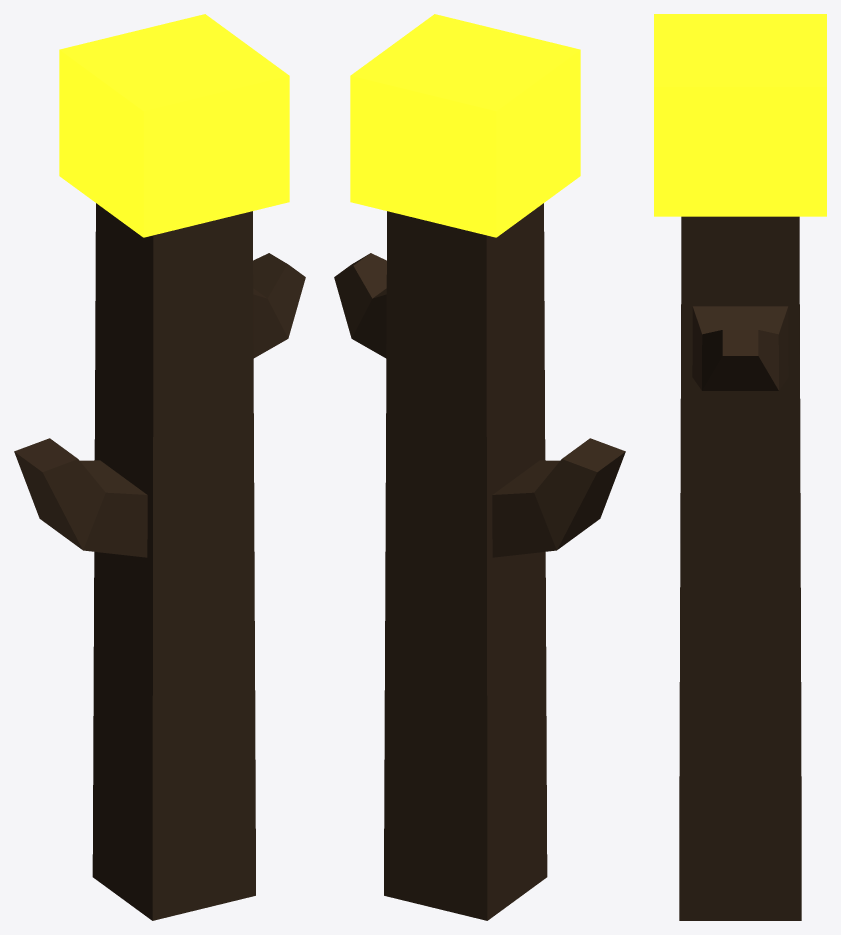
Rendered from Obor.fbx.
3 renders of one model, left to right at view 1: azimuth 30°, elevation 25°; view 2: azimuth 150°, elevation 25°; view 3: azimuth 270°, elevation 25°, orthographic. The views are drawn at different scales.
Visible parts, largest first — view 1: Obor; view 2: Obor; view 3: Obor.
Part boxes in pixels (x1,y1,x2,y2): Obor: (14,14,305,920); Obor: (334,14,625,920); Obor: (654,14,826,920).
Bounding box in the file's own units: 4.18 × 12.23 × 2.27.
